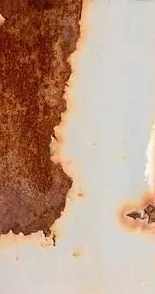Corrosion: (1, 1, 84, 248), (116, 192, 155, 238)
